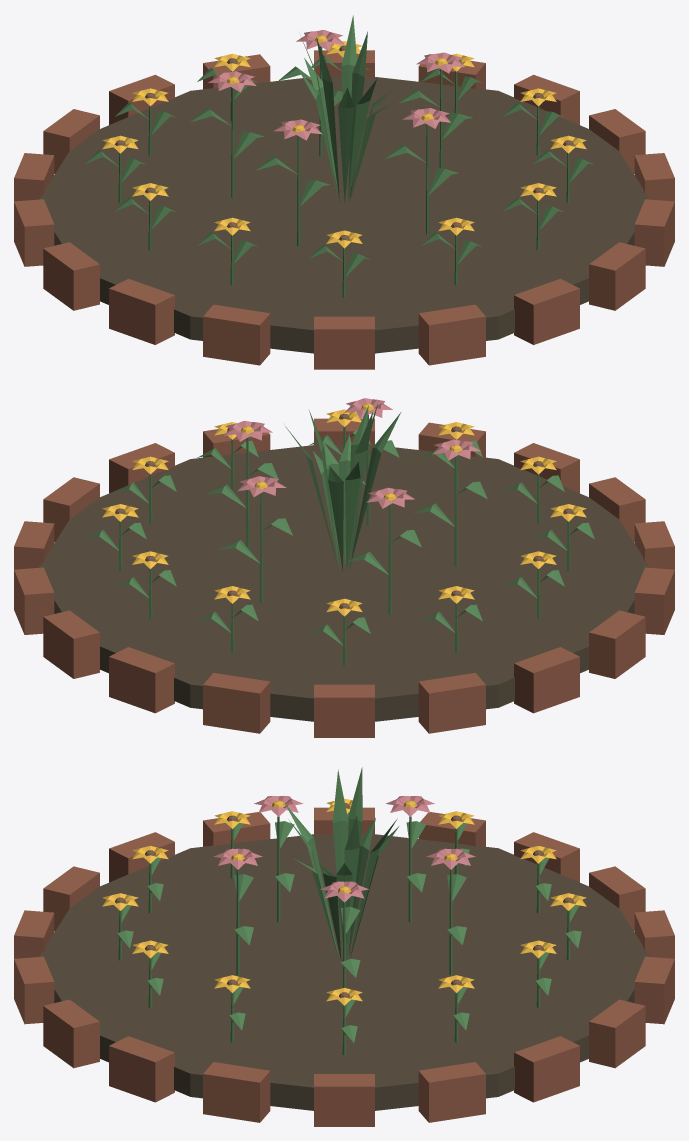
The model's file is b08_circular_civic_flower_bed.glb.
The picture shows the model from 3 angles, top to bottom: view 1: azimuth 30°, elevation 25°; view 2: azimuth 150°, elevation 25°; view 3: azimuth 270°, elevation 25°; orthographic projection.
Visible parts, largest first — view 1: b08_circular_civic_flower_bed; view 2: b08_circular_civic_flower_bed; view 3: b08_circular_civic_flower_bed.
Part boxes in pixels (x1=…): b08_circular_civic_flower_bed: x1=14, y1=15, x2=674, y2=369; b08_circular_civic_flower_bed: x1=14, y1=398, x2=674, y2=737; b08_circular_civic_flower_bed: x1=14, y1=767, x2=674, y2=1126.
Bounding box in the file's own units: 2.83 × 0.96 × 2.83.
